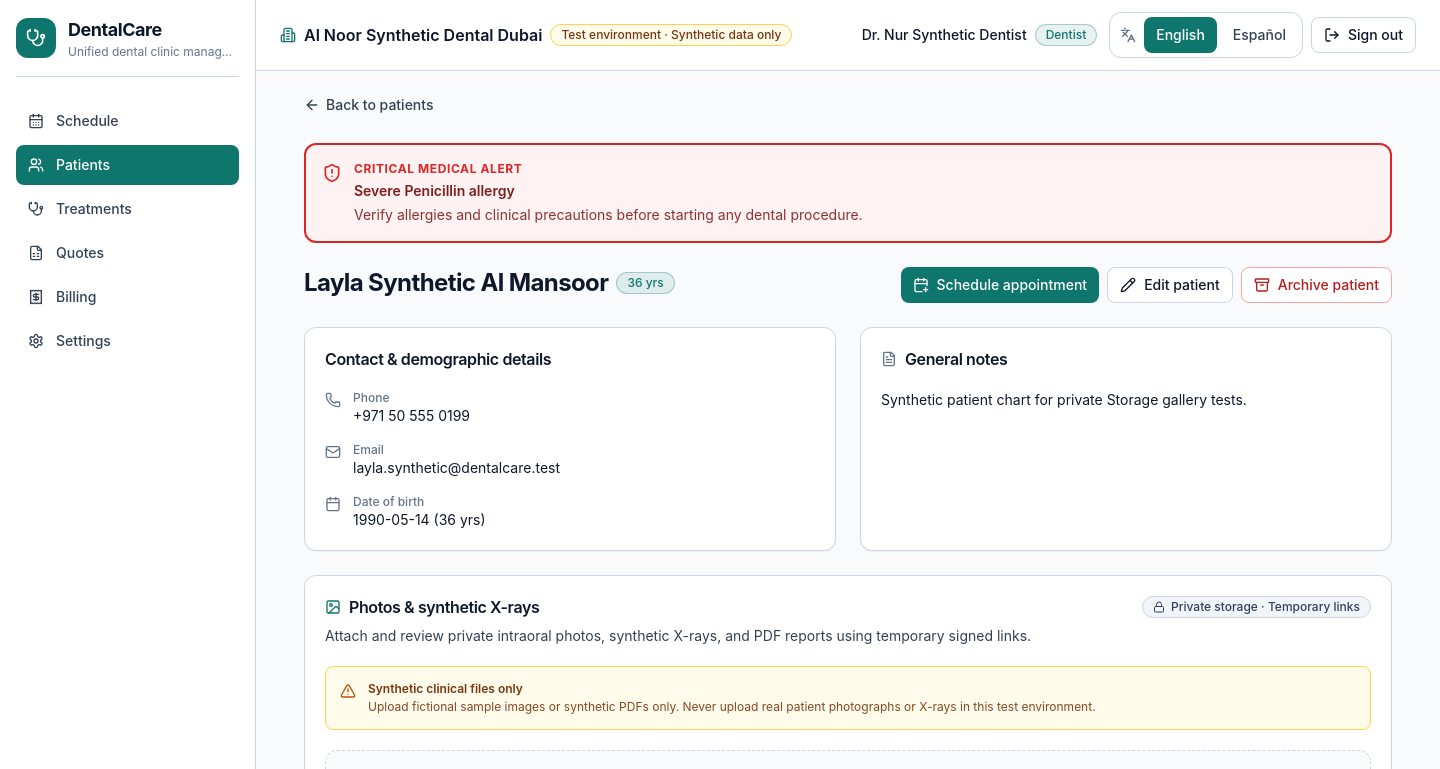
Scenario: T-06 Patient private clinical files UI & signed URL flow › 5. Switches cleanly between EN and ES for clinical files gallery labels, sizes, and dates
Expected: the text "Photos & synthetic X-rays" is shown, [349,596,539,618]
// Switch to Spanish
Click the button with aria-label "Switch language to Spanish". click: (1259, 35)
box: [1221,17,1298,53]
(page scrolled)
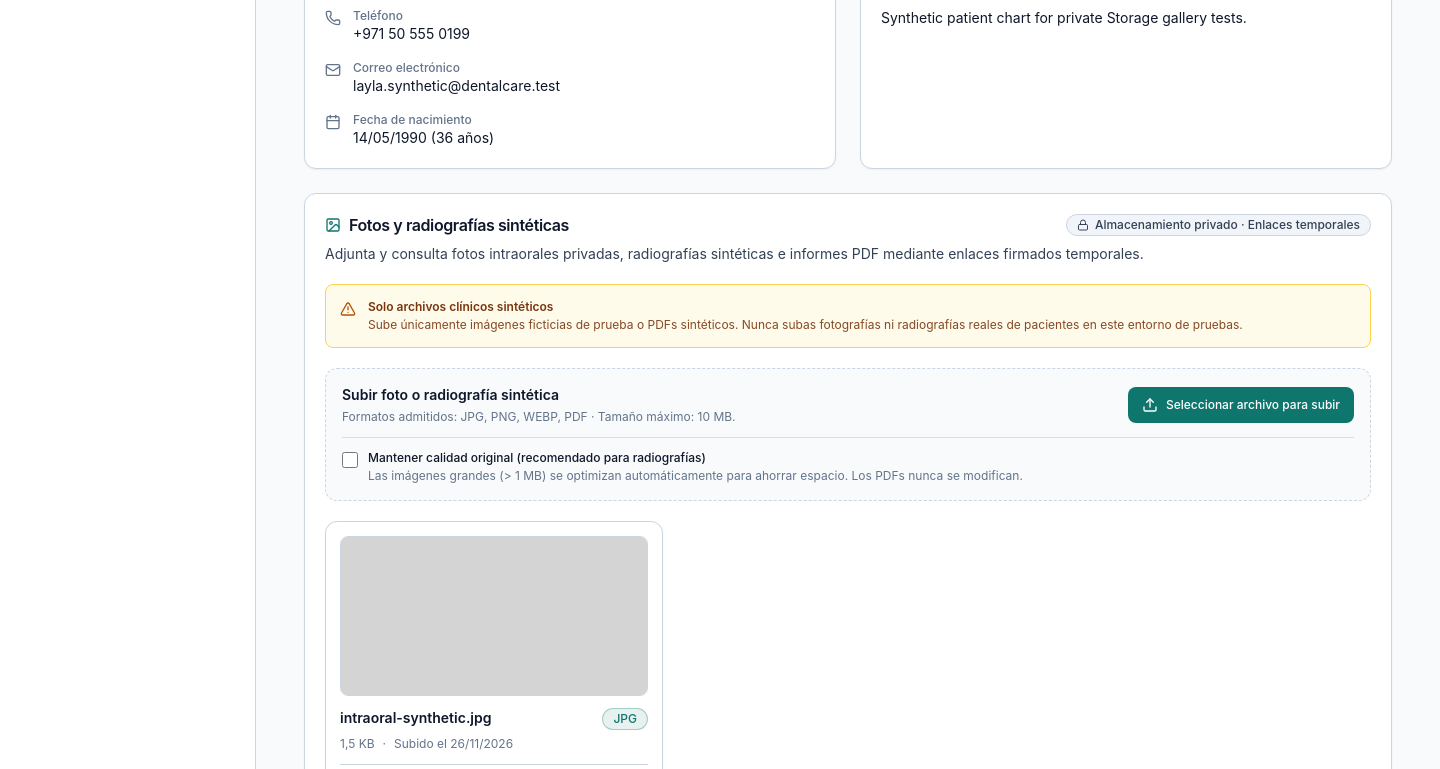
Expected: the text "Fotos y radiografías sintéticas" is shown, [349,214,569,236]
Expected: the text "1,5 KB" is shown, [340,736,375,752]
Expected: the button "Seleccionar archivo para subir" is shown, [1128,387,1354,423]
